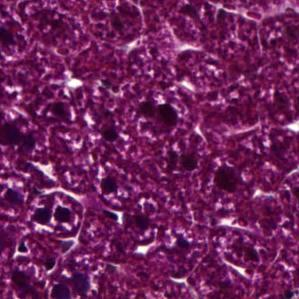inflammation: (27, 196, 87, 234), (131, 227, 188, 260)
